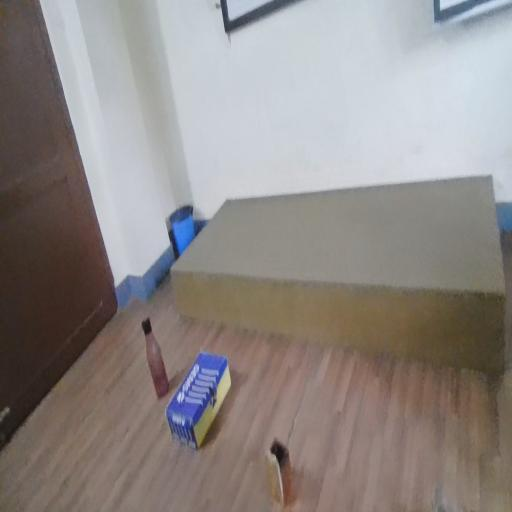Bottle: (140, 308, 168, 392)
